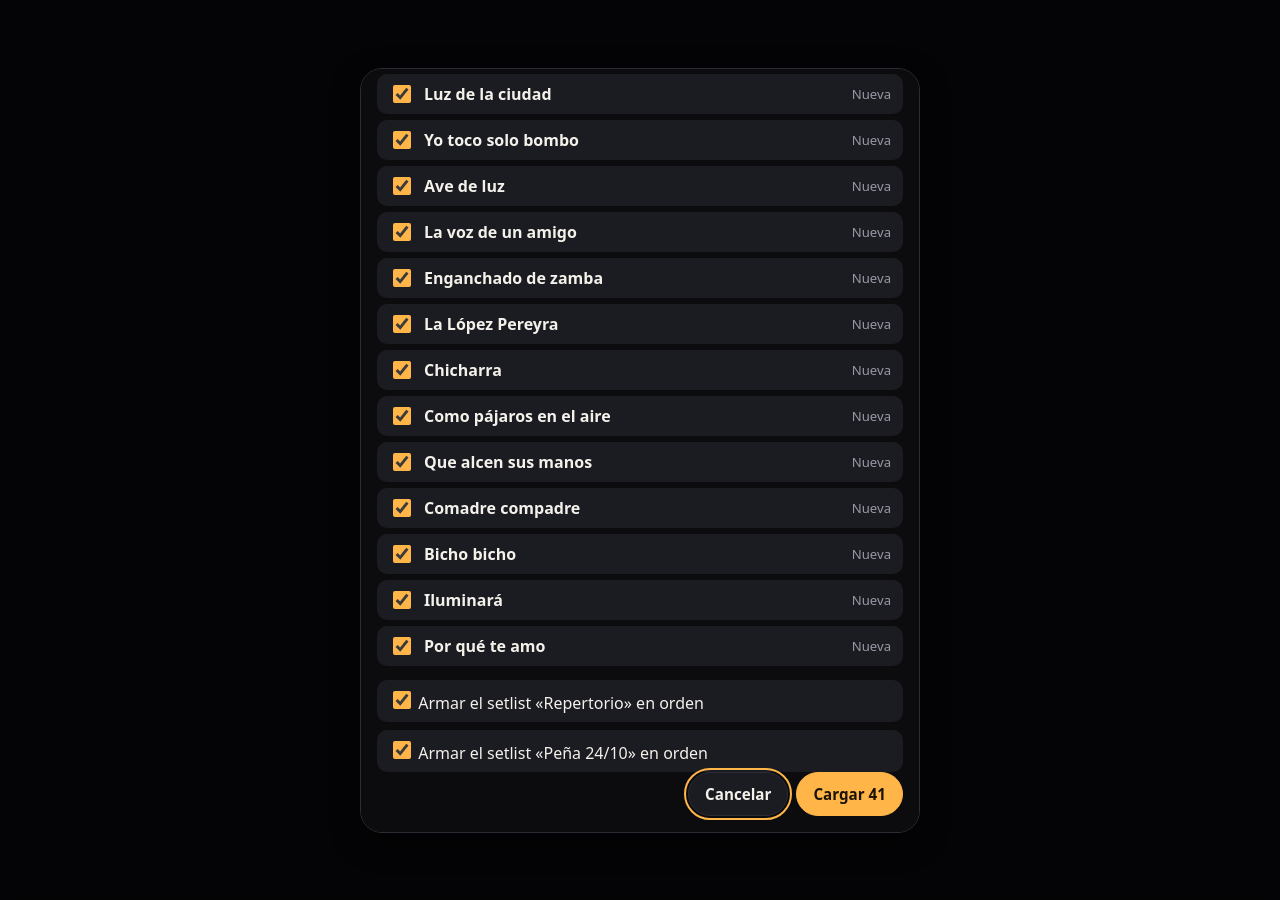
Scenario: adds the chords to lyrics typed by hand and builds the setlist
(page scrolled)
Expected: the text "Armar el setlist «Repertorio» en orden" is shown, [389,688,704,714]
Expected: the text "Armar el setlist «Peña 24/10» en orden" is shown, [389,738,708,764]
Click the button "Cargar 41": (850, 794) [796,772,903,816]
(page scrolled)
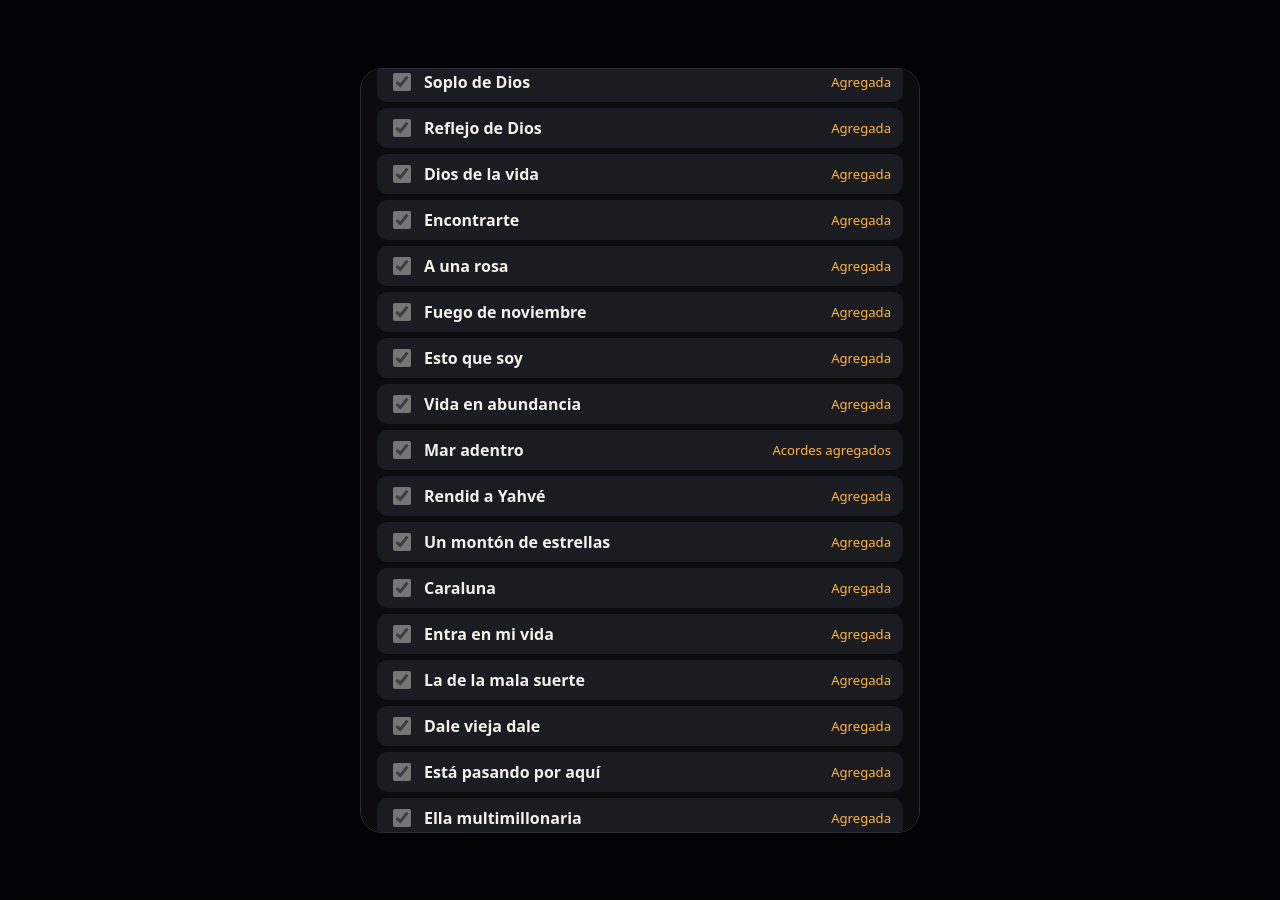
Now the text "Acordes agregados" is shown, box [772,440,891,458]
